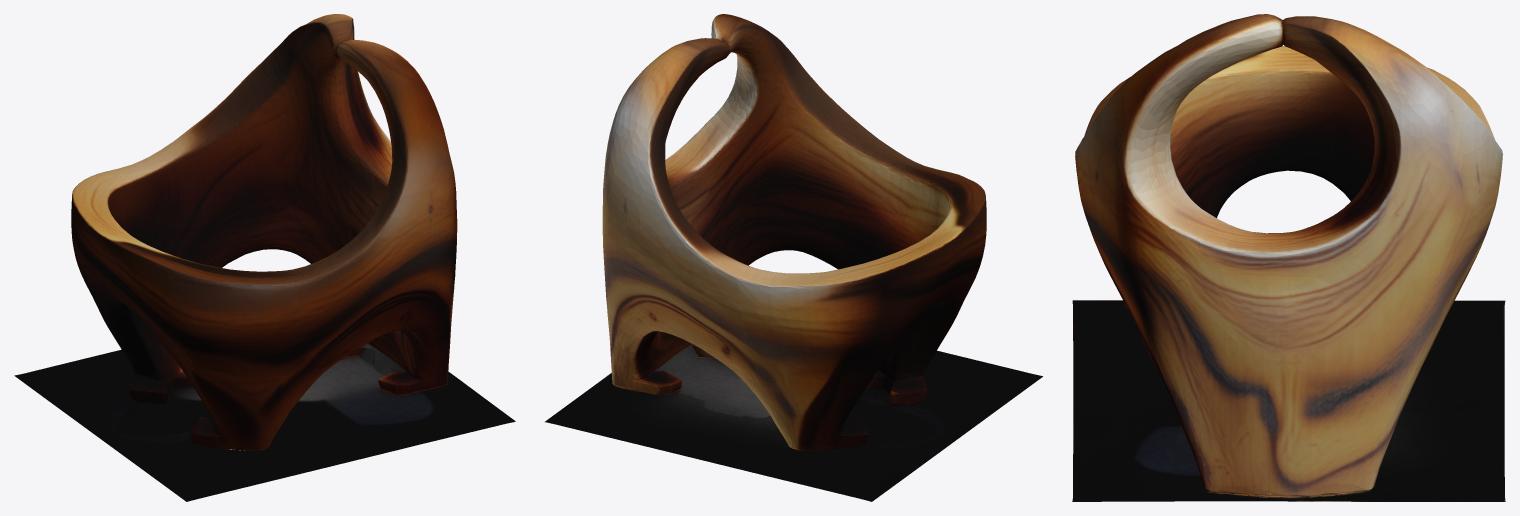
Rendered from wooden-wine-holder-rustic.jpeg.glb.
3 renders of one model, left to right at view 1: azimuth 30°, elevation 25°; view 2: azimuth 150°, elevation 25°; view 3: azimuth 270°, elevation 25°, orthographic. The views are drawn at different scales.
Visible parts, largest first — view 1: world; view 2: world; view 3: world.
Part boxes in pixels (box(x1,y1,x2,y2)): world: box(14, 14, 515, 501); world: box(545, 14, 1042, 501); world: box(1072, 14, 1505, 501).
Bounding box in the file's own units: 1 × 1 × 0.9083.
1 material, 1 textured.
